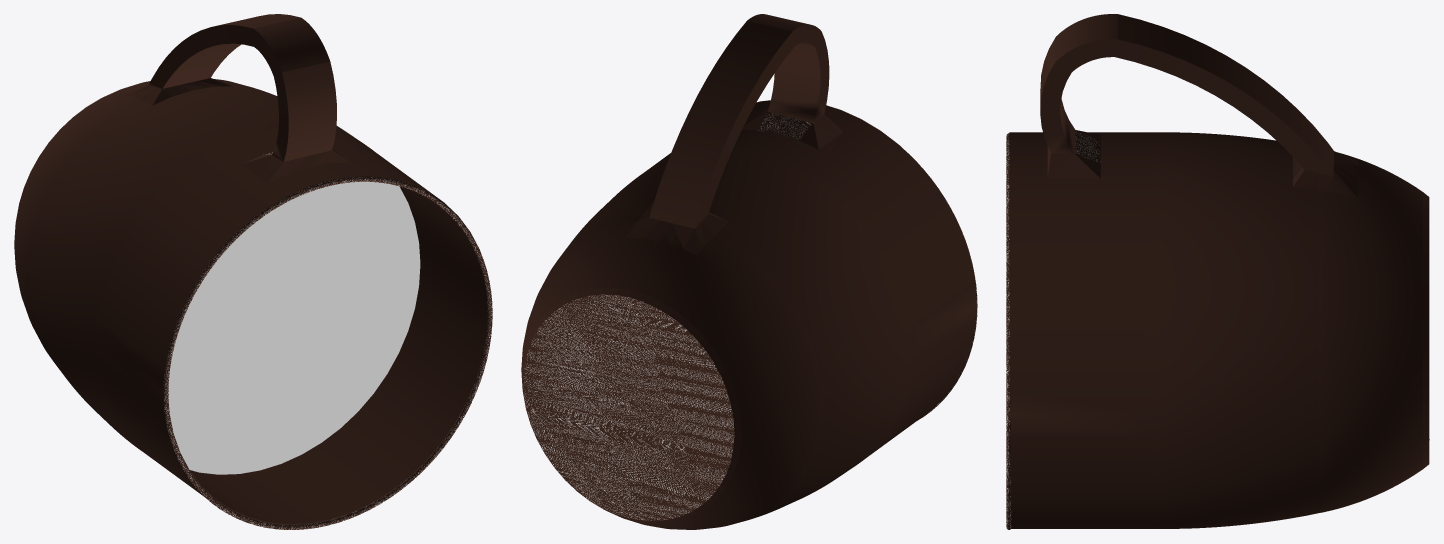
Rendered from model_scale.obj.
3 views of the same model, side by side, from view 1: azimuth 30°, elevation 25°; view 2: azimuth 150°, elevation 25°; view 3: azimuth 270°, elevation 25° (orthographic). The views are drawn at different scales.
Visible parts, largest first — view 1: mesh1_mesh1-geometry; view 2: mesh1_mesh1-geometry; view 3: mesh1_mesh1-geometry.
Part boxes in pixels (left/top/right/bottom): mesh1_mesh1-geometry: left=14, top=14, right=492, bottom=529; mesh1_mesh1-geometry: left=521, top=14, right=977, bottom=529; mesh1_mesh1-geometry: left=1006, top=14, right=1429, bottom=529.
Size of the model in its own units: 0.0933 by 0.1259 by 0.0994.
